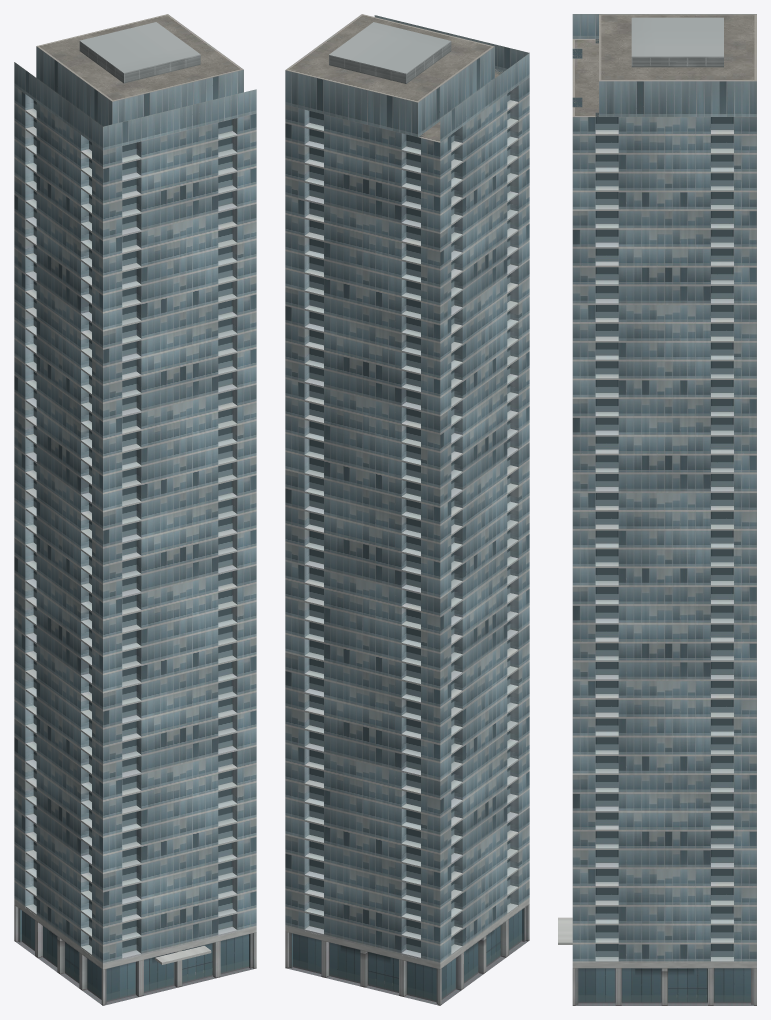
File: sf_glasstower_a.glb
3 views of the same model, side by side, from view 1: azimuth 30°, elevation 25°; view 2: azimuth 150°, elevation 25°; view 3: azimuth 270°, elevation 25° (orthographic). The views are drawn at different scales.
Visible parts, largest first — view 1: sf_glasstower_a; view 2: sf_glasstower_a; view 3: sf_glasstower_a.
Part boxes in pixels (<box>): sf_glasstower_a: <box>14,14,256,1005</box>; sf_glasstower_a: <box>285,14,529,1005</box>; sf_glasstower_a: <box>558,14,756,1005</box>.
Bounding box in the file's own units: 27.99 × 157 × 30.2.
Materials: 1 (1 with a texture image).
